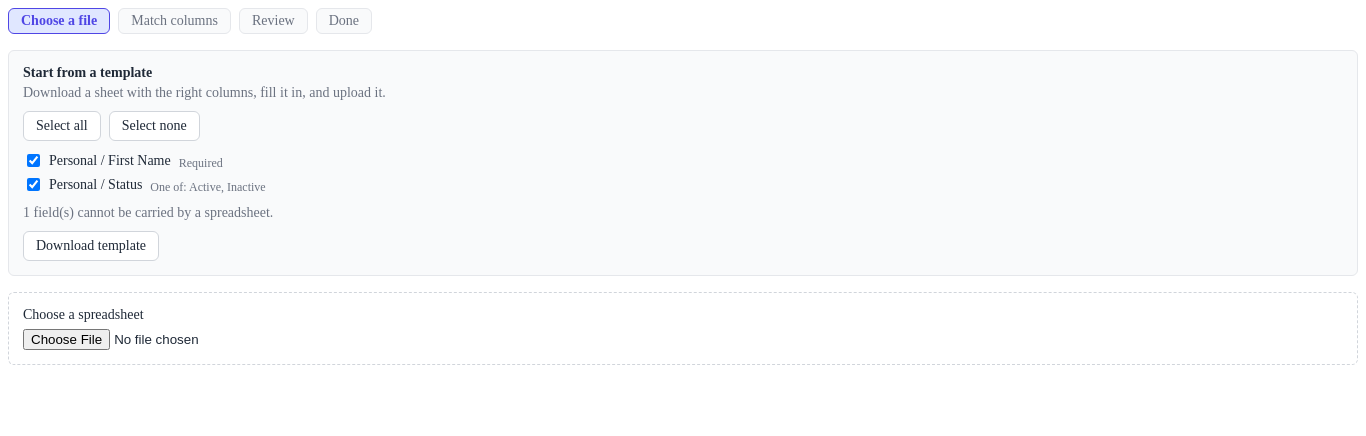
EntityImportComponent › reports a template format the transport cannot write
Click the button with test id "import-template-download" at {"x": 91, "y": 246}, box [23,231,159,261]
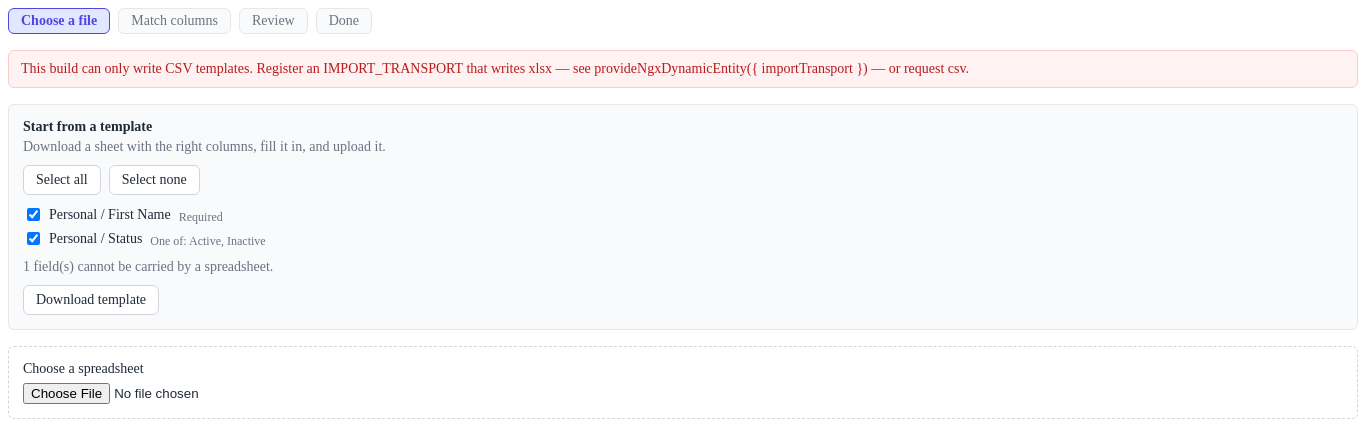
Check: the message with test id "import-problem" shows "only write CSV", box [21,61,969,76]
